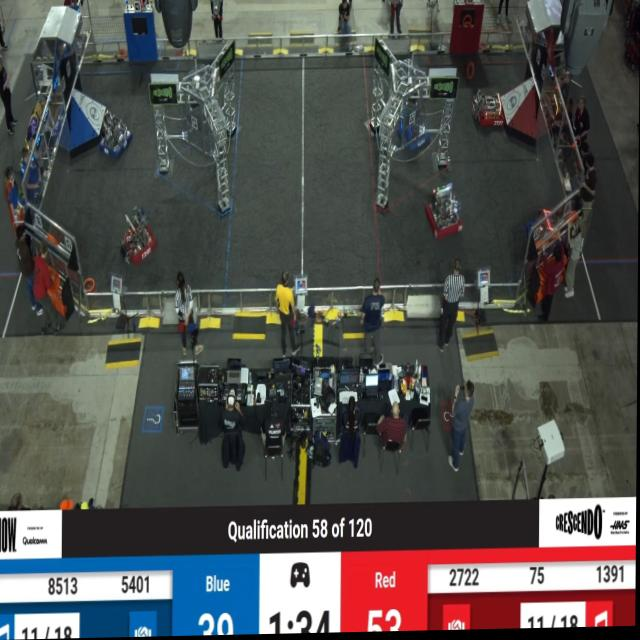Robot: (424, 179, 465, 245), (124, 206, 159, 270), (100, 108, 134, 164), (472, 85, 508, 136), (526, 207, 559, 261), (403, 99, 431, 161)
